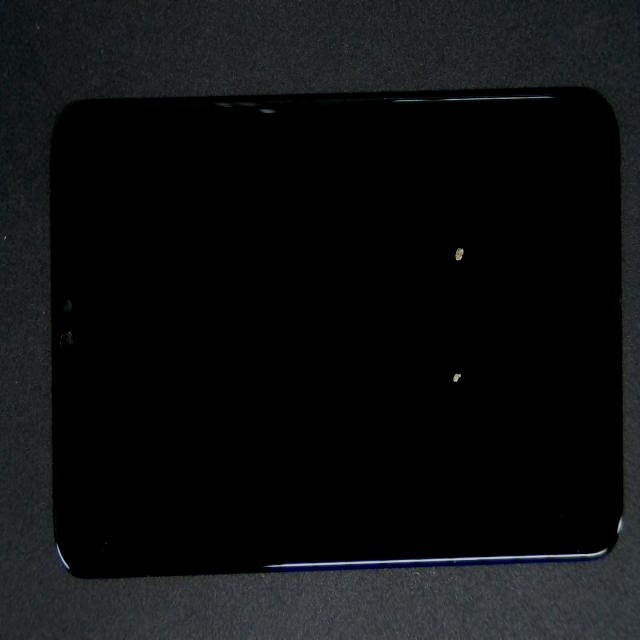stain: (244, 153, 640, 519), (241, 86, 640, 349)
